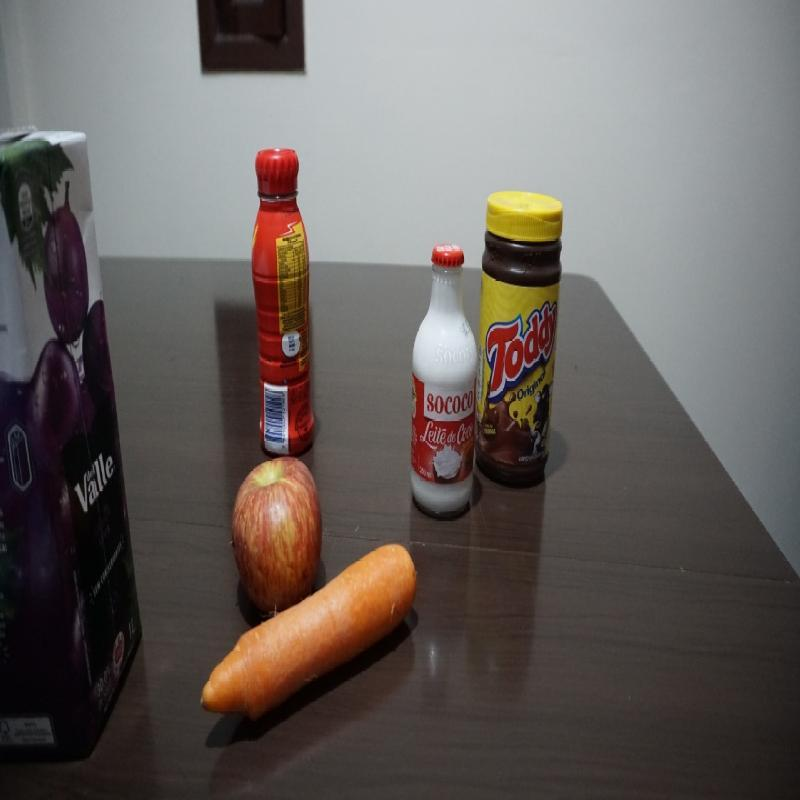Apple: (233, 453, 322, 591)
Carrot: (200, 594, 418, 720)
Chocolate Milk: (251, 142, 315, 446)
Chocolate Powder: (479, 192, 562, 490)
Coconut Milk: (409, 245, 478, 517)
